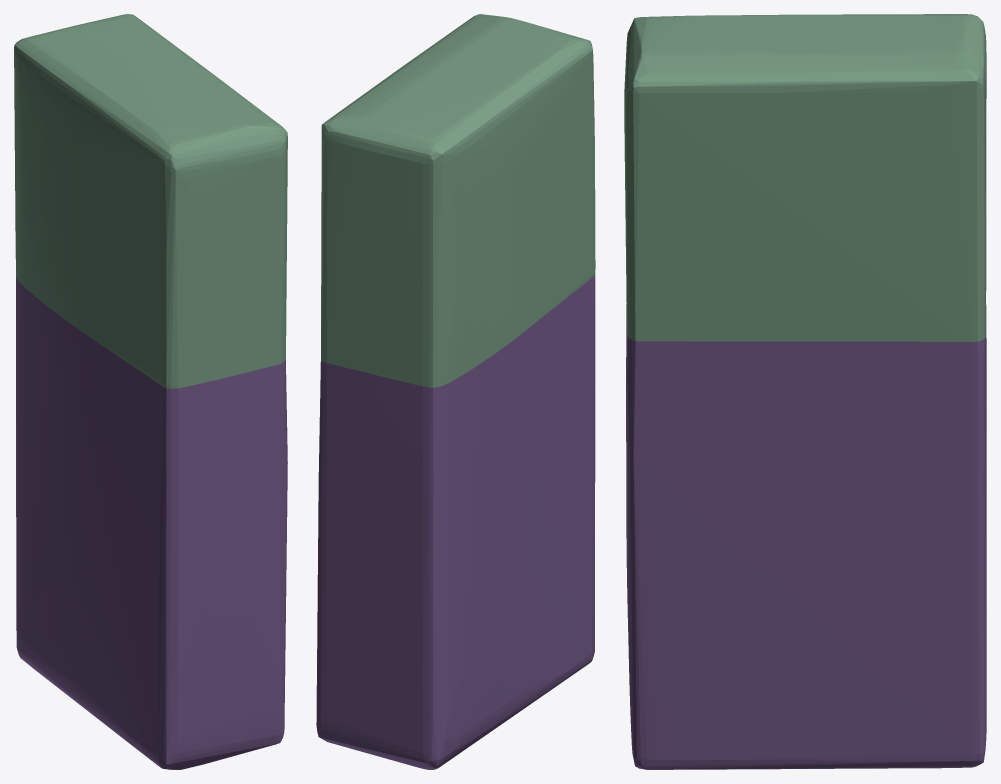
The model's file is coacd_collision.obj.
3 renders of one model, left to right at view 1: azimuth 30°, elevation 25°; view 2: azimuth 150°, elevation 25°; view 3: azimuth 270°, elevation 25°, orthographic. The views are drawn at different scales.
Visible parts, largest first — view 1: geometry_1, geometry_0; view 2: geometry_1, geometry_0; view 3: geometry_1, geometry_0.
Part boxes in pixels (x1,y1,x2,y2): geometry_1: (16, 277, 287, 769); geometry_0: (14, 14, 287, 388); geometry_1: (316, 275, 595, 769); geometry_0: (321, 14, 595, 387); geometry_1: (626, 304, 986, 769); geometry_0: (624, 14, 986, 341).
Size of the model in its own units: 43.65 by 202 by 93.91.
